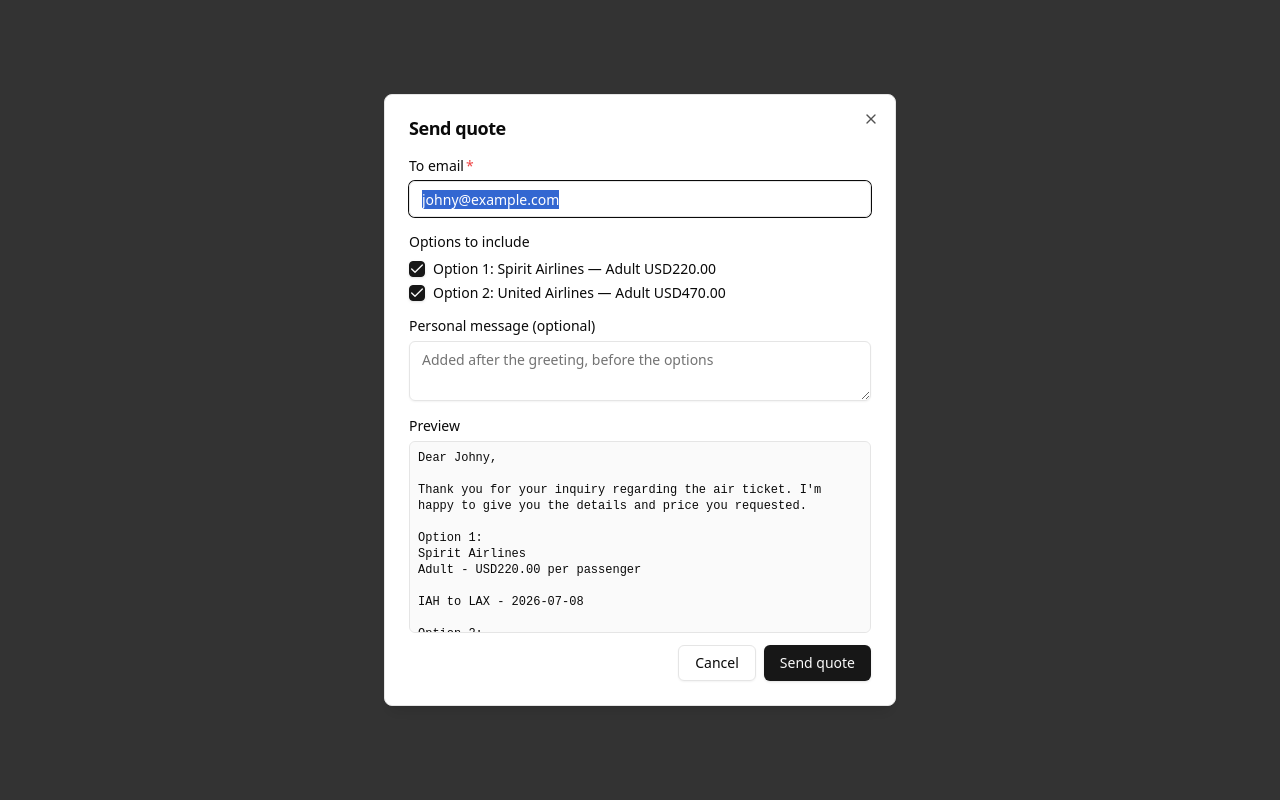
Test: SendQuoteDialog › shows a plain-text preview reflecting the checked options
The image size is (1280, 800).
Check: the text named "Email preview" shows "Dear Johny,", box [418,451,857,785]
Check: the text named "Email preview" shows "Spirit Airlines", box [418,451,857,785]
Click the checkbox named "Option 1: Spirit Airlines": click(417, 269) [409,261,425,277]
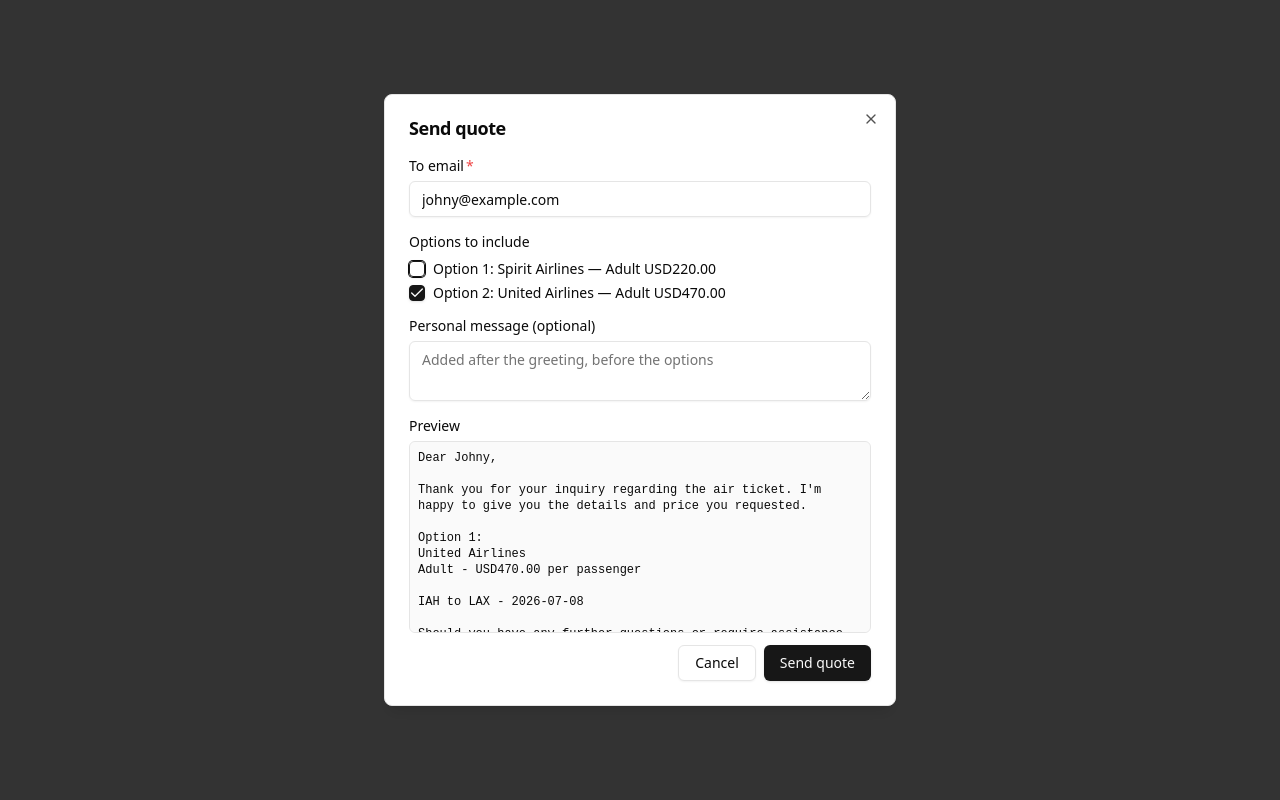
Check: the text named "Email preview" no longer shows "Adult - USD220.00 per passenger", box [409,441,871,633]
